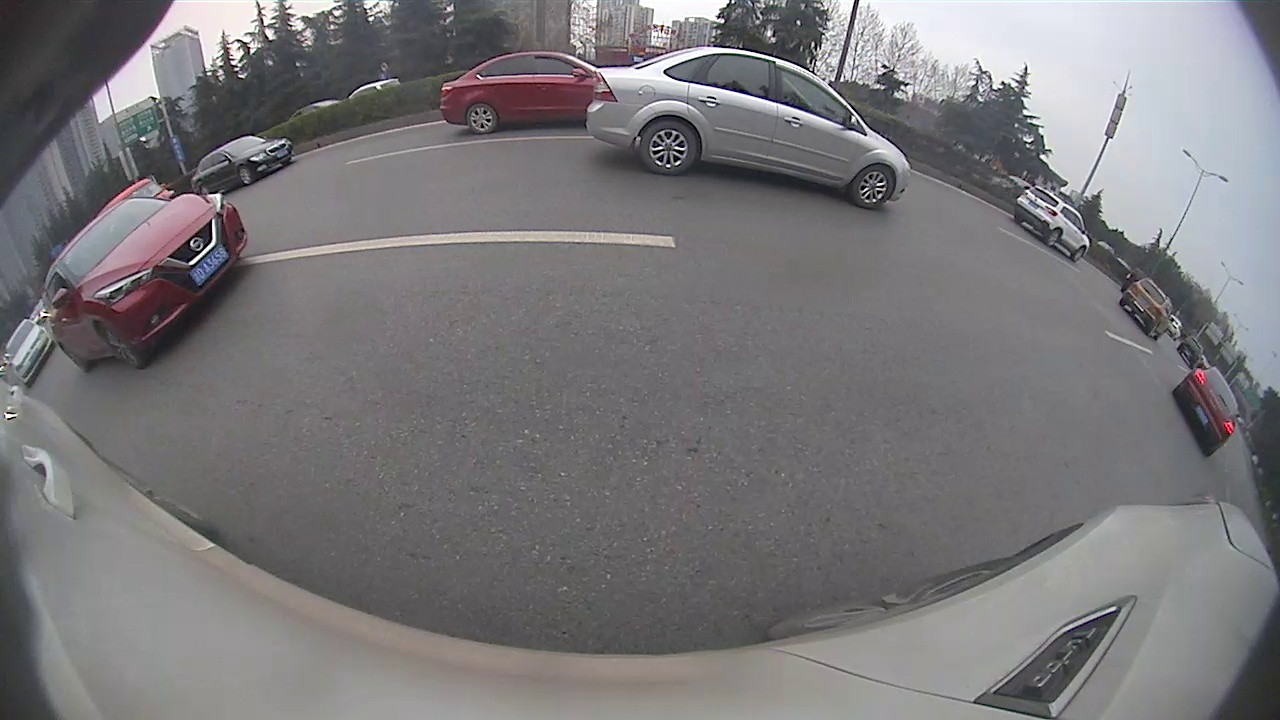car: (586, 47, 914, 211), (47, 193, 245, 375), (437, 49, 596, 134), (189, 134, 296, 195), (1174, 364, 1240, 458), (1013, 183, 1091, 262), (1119, 275, 1176, 342)
front: (101, 320, 148, 373), (852, 165, 894, 210), (236, 164, 254, 186), (1071, 247, 1086, 263)
rear: (638, 120, 699, 177), (465, 102, 499, 135), (1044, 229, 1061, 248)
